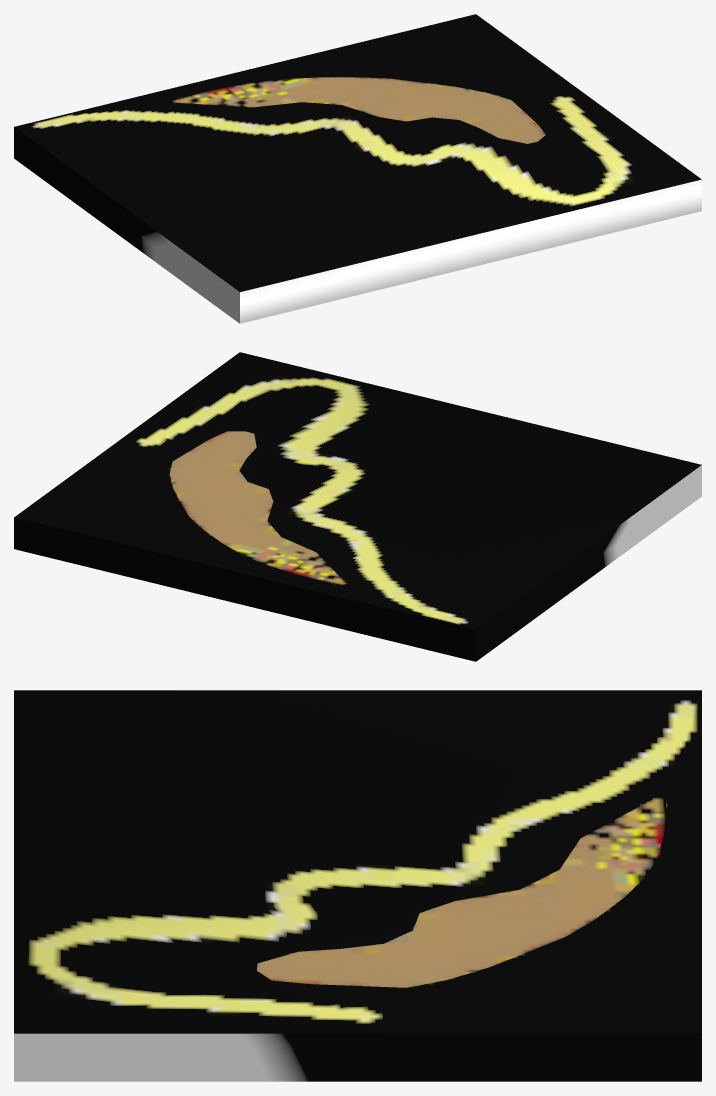
Rendered from CharSkyKid_Prop_MoonlightMural_Mountain03.glb.
3 renders of one model, top to bottom at view 1: azimuth 30°, elevation 25°; view 2: azimuth 150°, elevation 25°; view 3: azimuth 270°, elevation 25°, orthographic. The views are drawn at different scales.
Parts seen in each view (by area): view 1: CharSkyKid_Prop_MoonlightMural_Mountain03; view 2: CharSkyKid_Prop_MoonlightMural_Mountain03; view 3: CharSkyKid_Prop_MoonlightMural_Mountain03.
Boxes of the visible parts, left/top/right/bottom form: CharSkyKid_Prop_MoonlightMural_Mountain03: left=14, top=14, right=701, bottom=323; CharSkyKid_Prop_MoonlightMural_Mountain03: left=14, top=352, right=701, bottom=661; CharSkyKid_Prop_MoonlightMural_Mountain03: left=14, top=690, right=701, bottom=1081.
Bounding box in the file's own units: 1 × 0.0654 × 0.847.
Materials: 1 (1 with a texture image).
